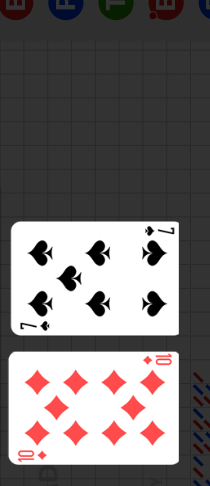10D: (17, 449, 49, 462)
7S: (143, 225, 176, 238)
